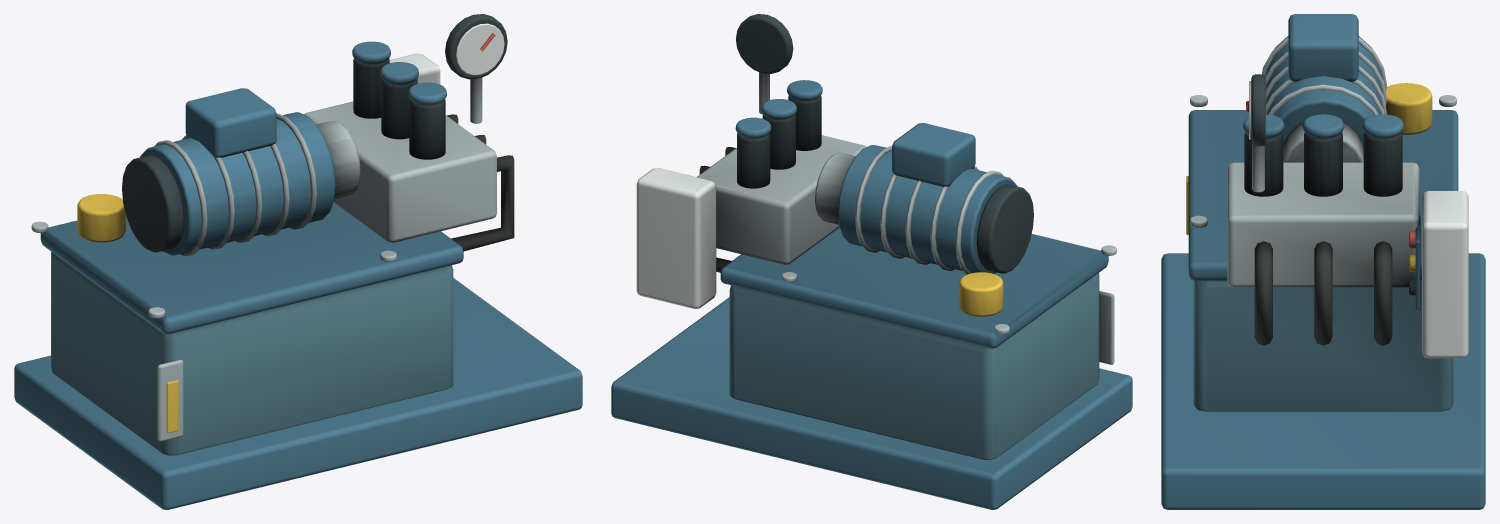
Rendered from hydraulic-unit.glb.
The picture shows the model from 3 angles, left to right: view 1: azimuth 30°, elevation 25°; view 2: azimuth 150°, elevation 25°; view 3: azimuth 270°, elevation 25°; orthographic projection. The views are drawn at different scales.
Visible parts, largest first — view 1: Hydraulic power unit; view 2: Hydraulic power unit; view 3: Hydraulic power unit.
Boxes of the visible parts, bbox=[...] form: Hydraulic power unit: bbox=[14, 14, 582, 509]; Hydraulic power unit: bbox=[611, 14, 1132, 509]; Hydraulic power unit: bbox=[1161, 14, 1485, 509].
Bounding box in the file's own units: 2 × 1.71 × 1.25.
